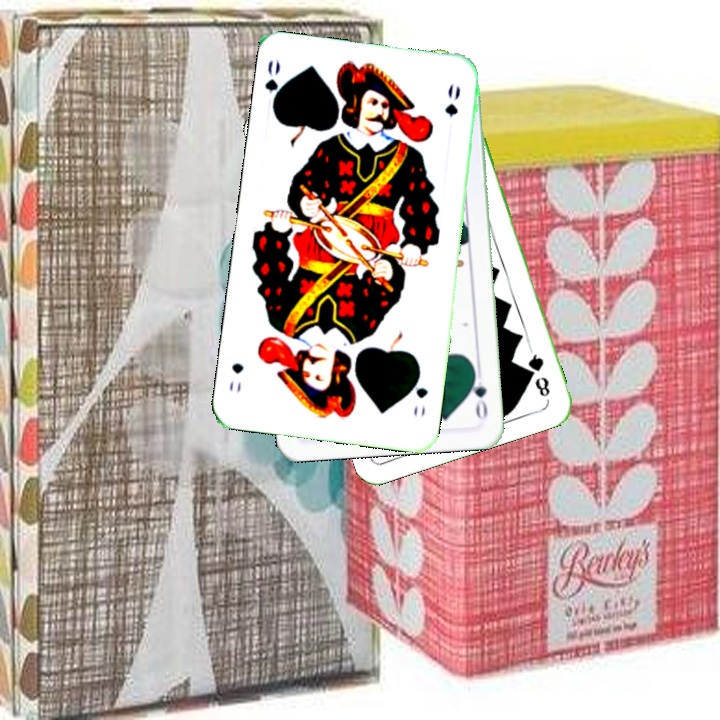G8: (523, 345, 553, 400)
GO: (260, 56, 288, 115), (466, 364, 490, 423), (408, 367, 431, 419)
